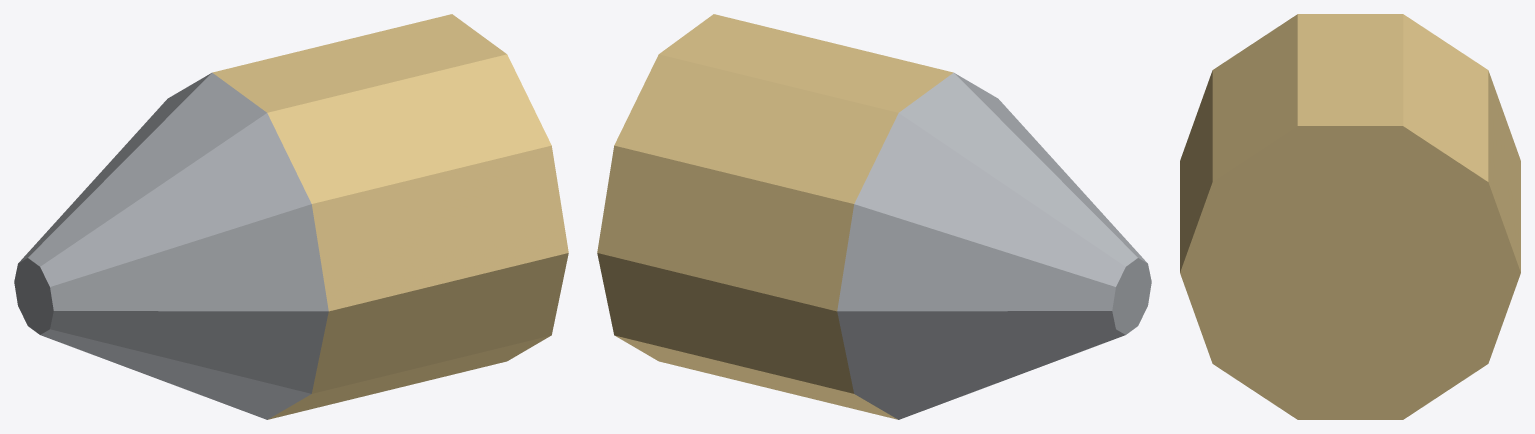
3 renders of one model, left to right at view 1: azimuth 30°, elevation 25°; view 2: azimuth 150°, elevation 25°; view 3: azimuth 270°, elevation 25°, orthographic. The views are drawn at different scales.
Parts seen in each view (by area): view 1: B_9x19_Body, B_9x19_Tip; view 2: B_9x19_Body, B_9x19_Tip; view 3: B_9x19_Body.
Part boxes in pixels (left/top/right/bottom): B_9x19_Body: left=212, top=14, right=568, bottom=419; B_9x19_Tip: left=14, top=72, right=328, bottom=419; B_9x19_Body: left=597, top=14, right=953, bottom=419; B_9x19_Tip: left=837, top=72, right=1151, bottom=419; B_9x19_Body: left=1180, top=14, right=1520, bottom=419.
Size of the model in its own units: 0.026 by 0.0171 by 0.018.
